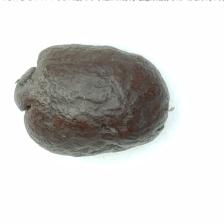NG: (13, 48, 46, 140)
